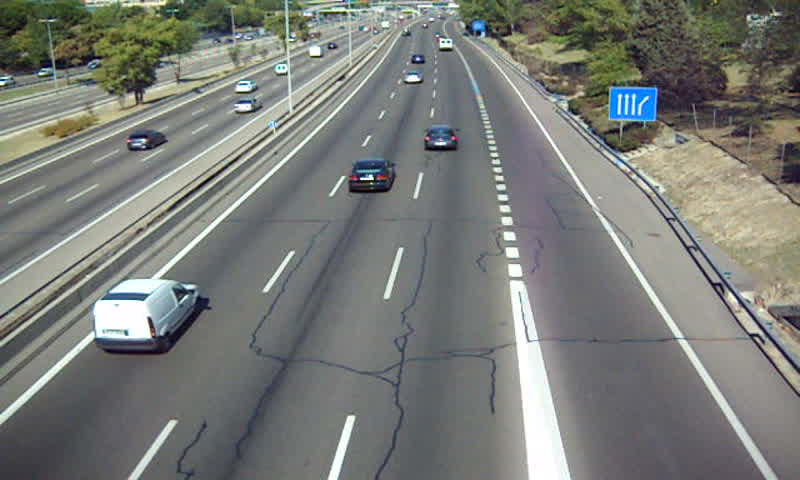car: (348, 159, 394, 191), (424, 127, 457, 151), (403, 70, 423, 84), (409, 53, 426, 67)
van: (93, 278, 198, 353)
